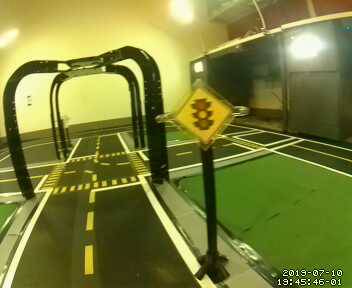Traffic light sign: (176, 86, 235, 143)
